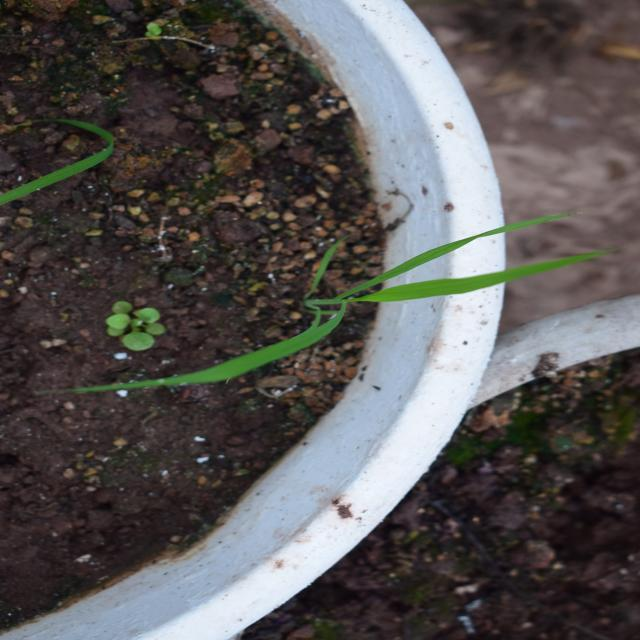barnyard_grass: (195, 27, 418, 535)
